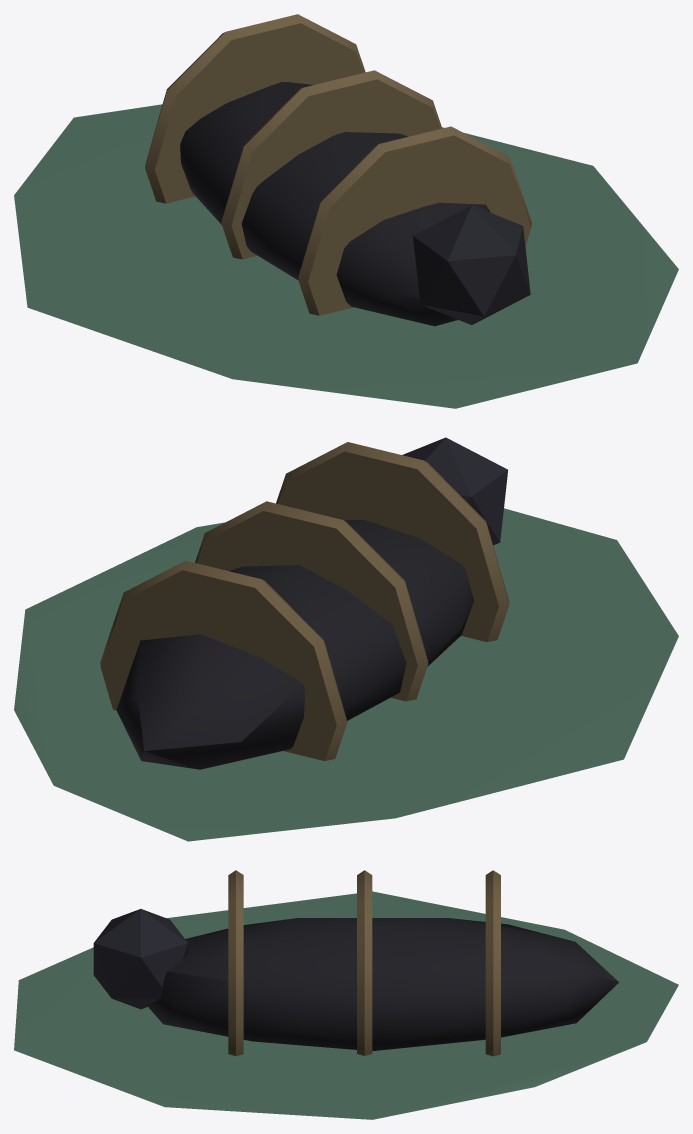
Rendered from body_bag.glb.
3 renders of one model, top to bottom at view 1: azimuth 30°, elevation 25°; view 2: azimuth 150°, elevation 25°; view 3: azimuth 270°, elevation 25°, orthographic. The views are drawn at different scales.
Parts seen in each view (by area): view 1: body_bag; view 2: body_bag; view 3: body_bag.
Boxes of the visible parts, <box> form: body_bag: <box>14,14,678,408</box>; body_bag: <box>14,437,678,841</box>; body_bag: <box>14,870,678,1119</box>.
Bounding box in the file's own units: 2.13 × 0.8369 × 2.59.
